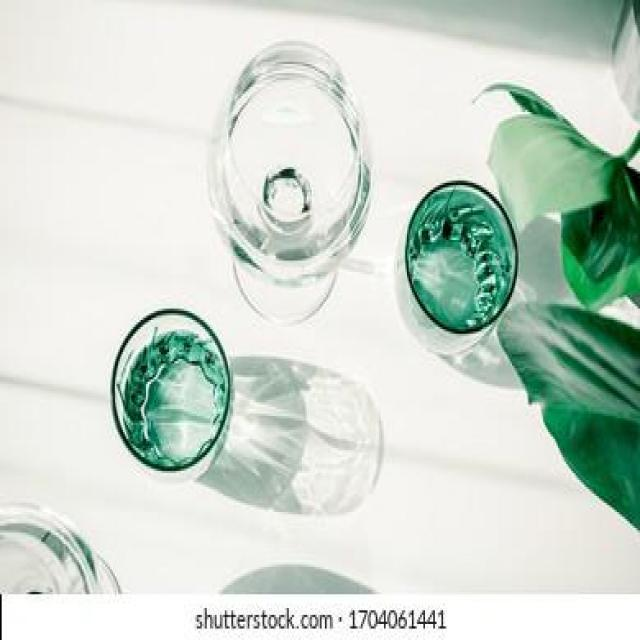glass: (211, 38, 376, 324), (106, 303, 235, 483)
